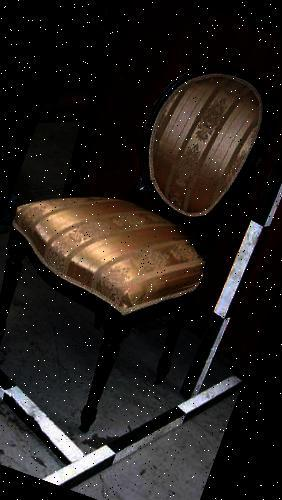Silla: (0, 12, 281, 465)
